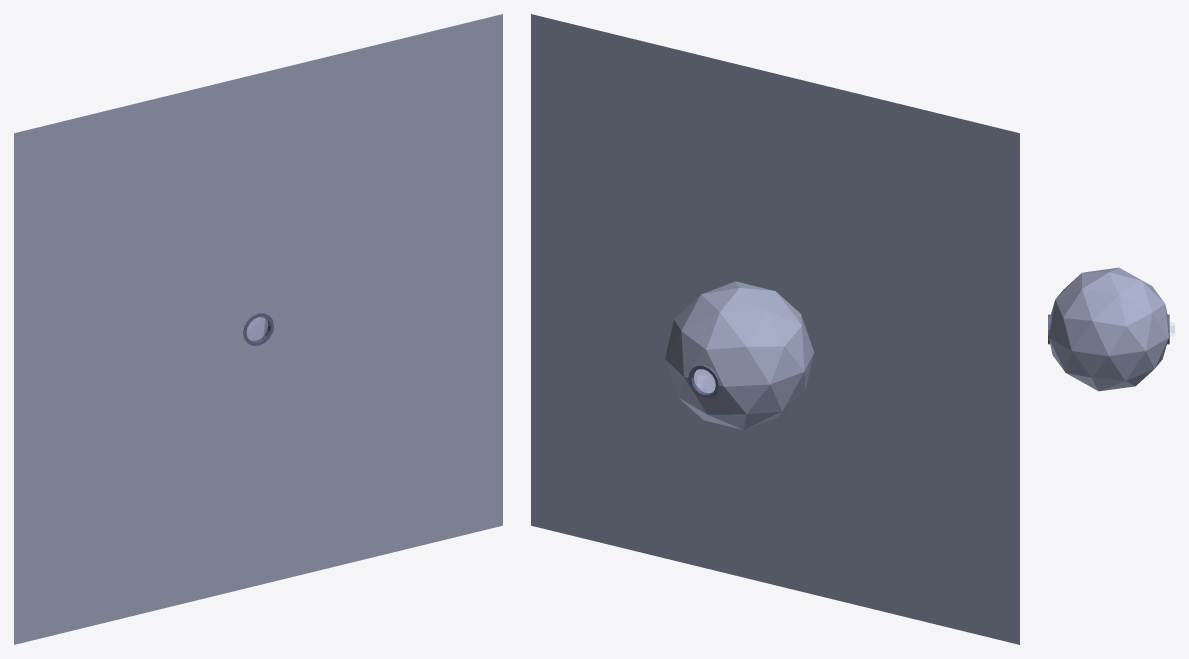
Rendered from vbV2dj2Z.glb.
3 renders of one model, left to right at view 1: azimuth 30°, elevation 25°; view 2: azimuth 150°, elevation 25°; view 3: azimuth 270°, elevation 25°, orthographic. The views are drawn at different scales.
Visible parts, largest first — view 1: Plane; view 2: Plane, Icosphere; view 3: Icosphere.
Boxes of the visible parts, left/top/right/bottom form: Plane: left=14, top=14, right=502, bottom=644; Plane: left=531, top=14, right=1019, bottom=644; Icosphere: left=665, top=281, right=813, bottom=429; Icosphere: left=1049, top=267, right=1168, bottom=391.
Bounding box in the file's own units: 64 × 64 × 17.09.
